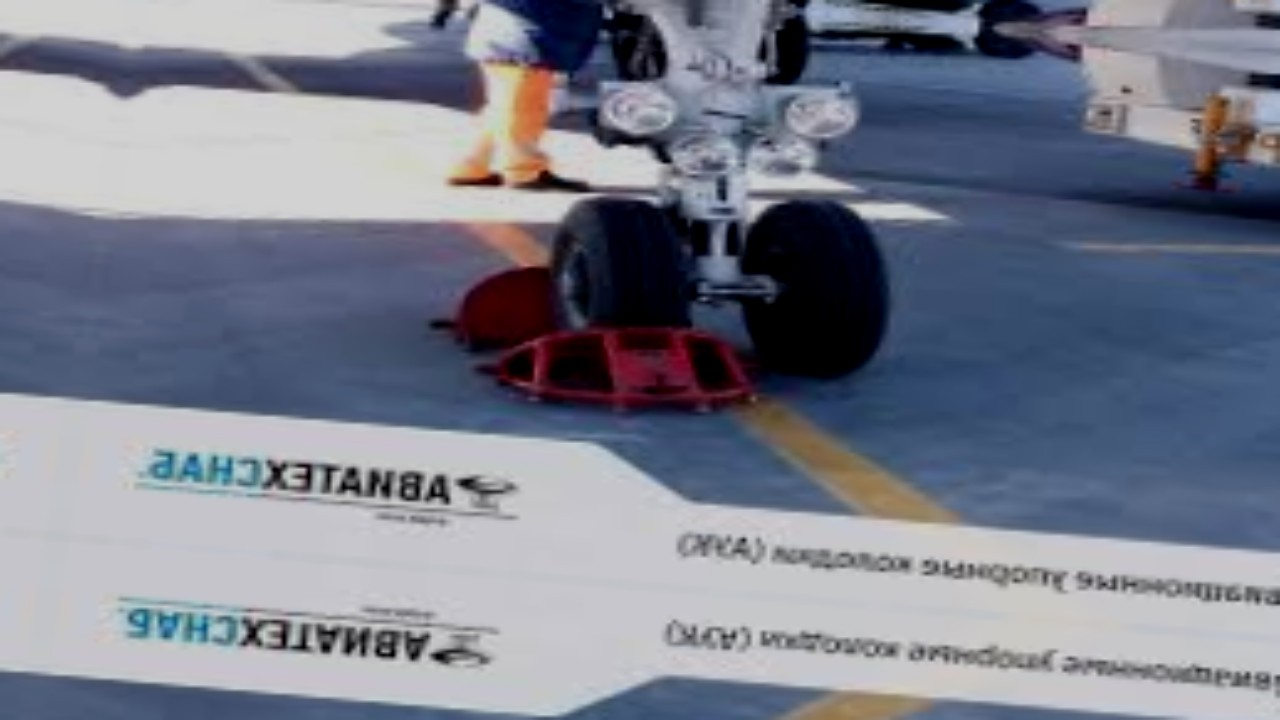chock: (469, 311, 769, 425), (430, 259, 568, 360)
wheel: (723, 194, 907, 381), (537, 191, 709, 340)
